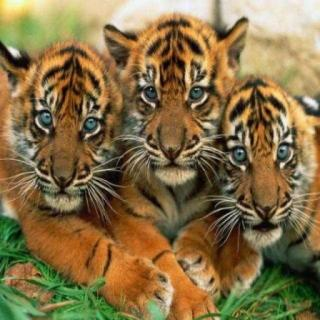Tiger: (106, 0, 234, 232), (0, 27, 116, 273), (212, 67, 320, 277)
